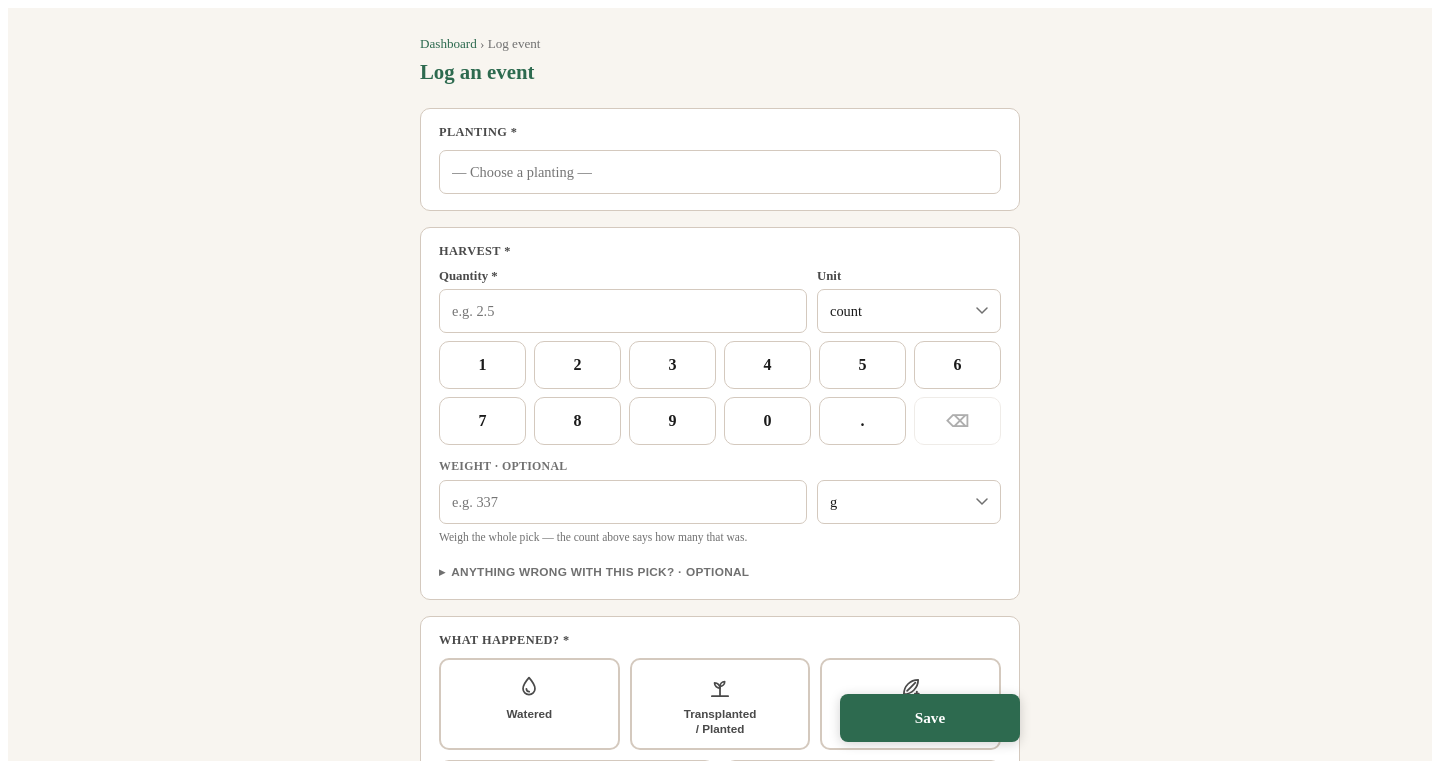
Test: EventNew — harvest quantity pad (V4-QUICKHITRANGE-001) › BUILDS a two-digit value — 1 then 3 is 13, which is the whole point
Click the button with test id "qty-chip-1".
click(482, 365)  # box [439,341,526,389]
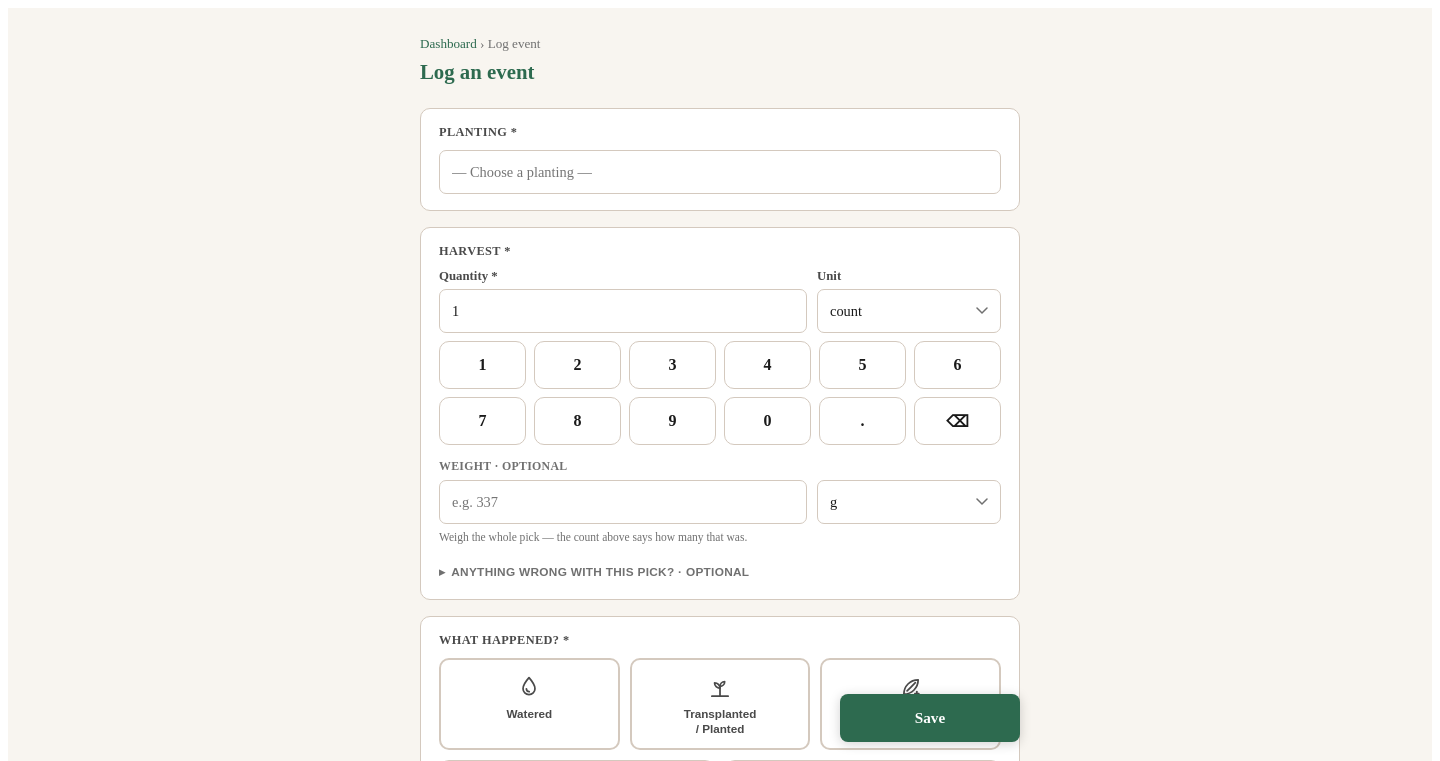
Click the button with test id "qty-chip-3".
click(672, 365)  # box [629,341,716,389]
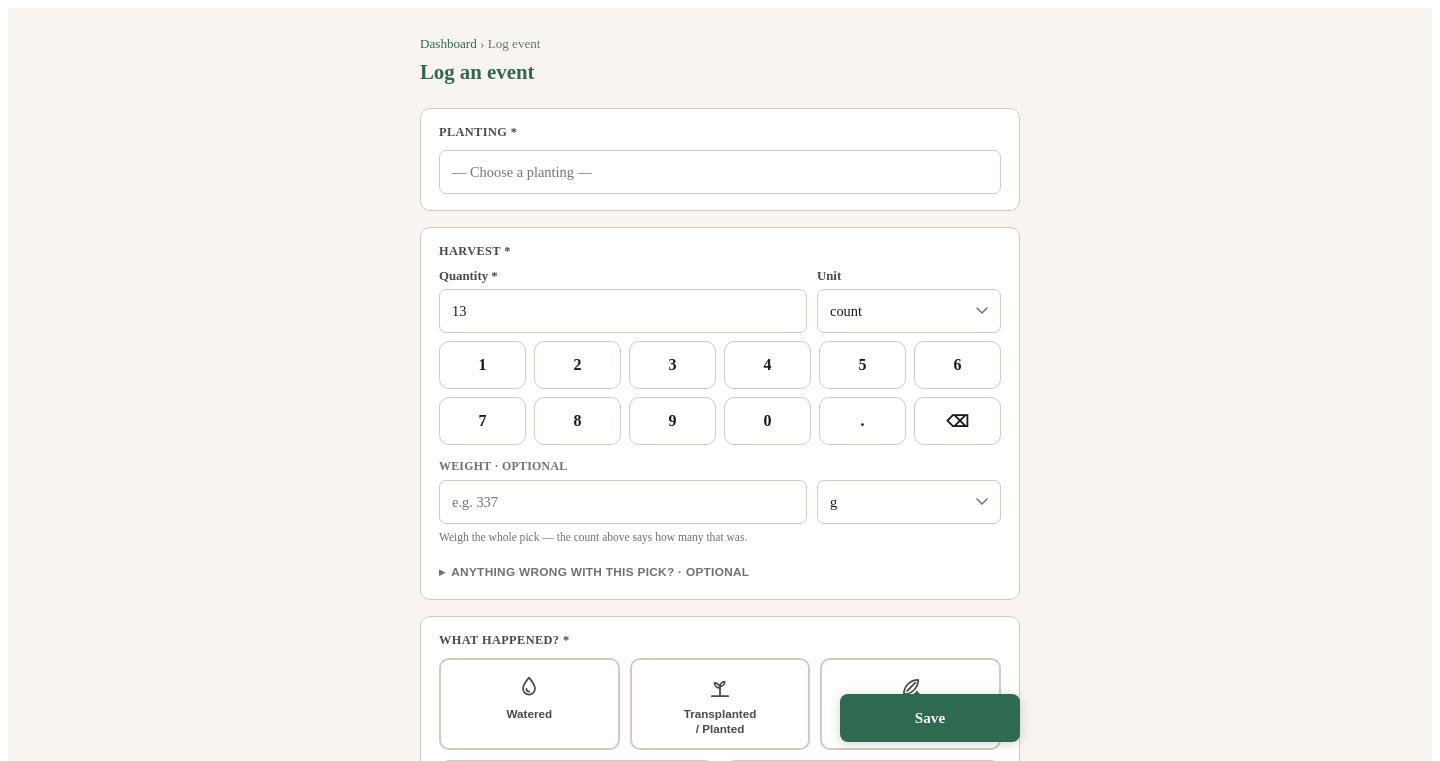
expect the field named "Harvest quantity" holds "13": met, box [439,289,807,333]
